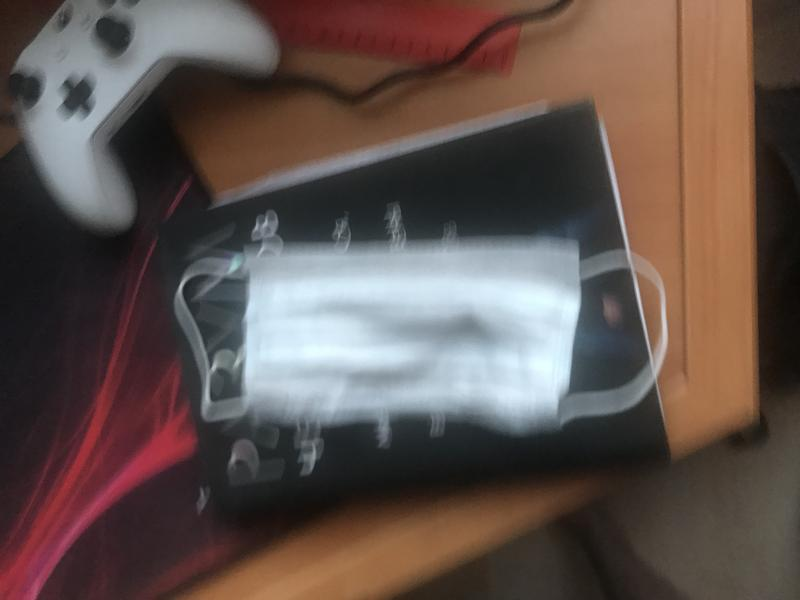medical_mask: (176, 244, 669, 426)
